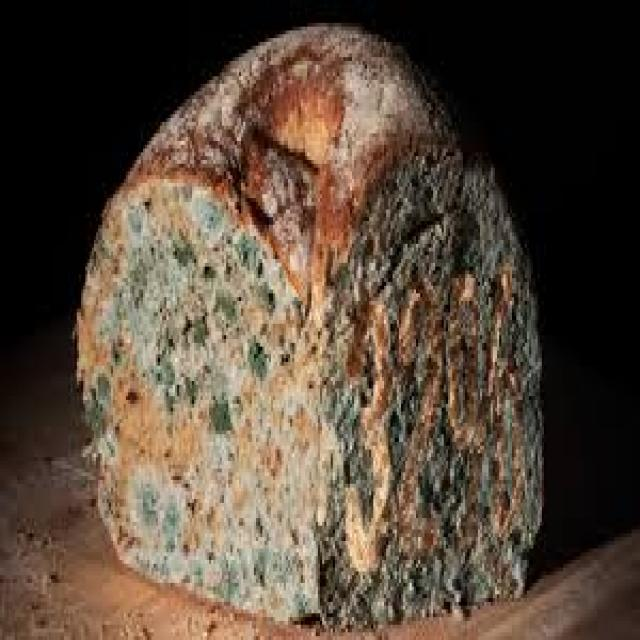organic waste: (70, 19, 540, 625)
